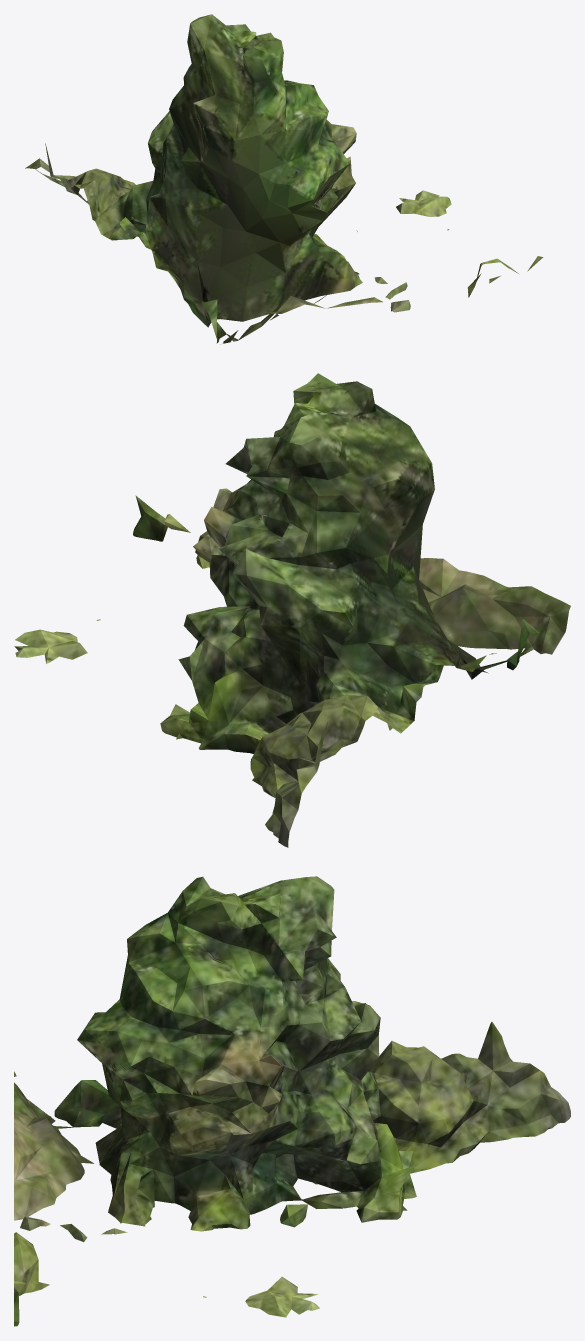
The picture shows the model from 3 angles, top to bottom: view 1: azimuth 30°, elevation 25°; view 2: azimuth 150°, elevation 25°; view 3: azimuth 270°, elevation 25°; orthographic projection. The views are drawn at different scales.
Bounding box in the file's own units: 19.09 × 12.63 × 21.4.
Materials: 2 (2 with a texture image).
